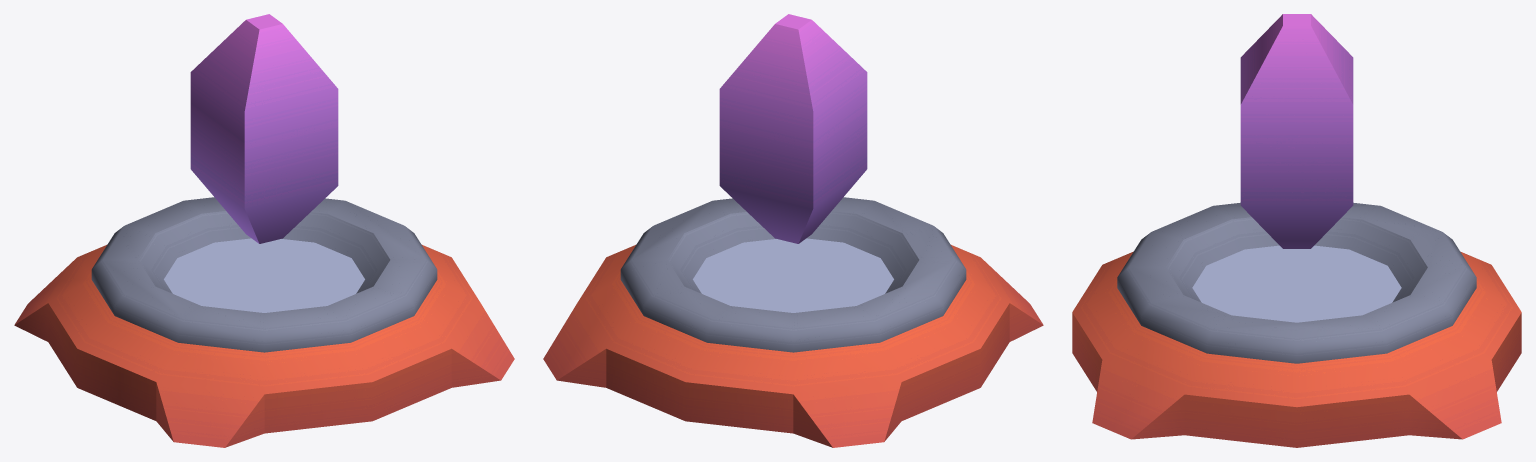
File: tower-round-crystals.glb
The picture shows the model from 3 angles, left to right: view 1: azimuth 30°, elevation 25°; view 2: azimuth 150°, elevation 25°; view 3: azimuth 270°, elevation 25°; orthographic projection. The views are drawn at different scales.
Visible parts, largest first — view 1: tower-round-crystals, tower-round-crystals.001; view 2: tower-round-crystals, tower-round-crystals.001; view 3: tower-round-crystals, tower-round-crystals.001.
Boxes of the visible parts, x1=… form: tower-round-crystals: x1=14, y1=197, x2=514, y2=447; tower-round-crystals.001: x1=190, y1=14, x2=338, y2=243; tower-round-crystals: x1=543, y1=197, x2=1043, y2=447; tower-round-crystals.001: x1=719, y1=14, x2=867, y2=243; tower-round-crystals: x1=1072, y1=202, x2=1521, y2=447; tower-round-crystals.001: x1=1240, y1=14, x2=1353, y2=248.
Size of the model in its own units: 3 by 2.45 by 3.
1 material, 1 textured.
